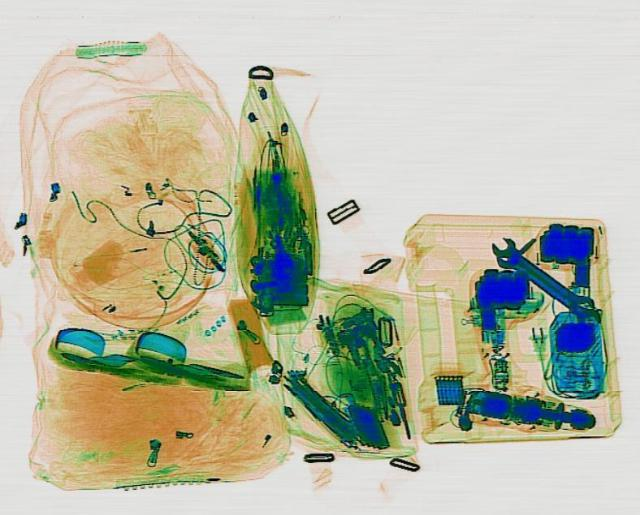Wrench: (491, 244, 609, 331), (482, 232, 598, 319)
